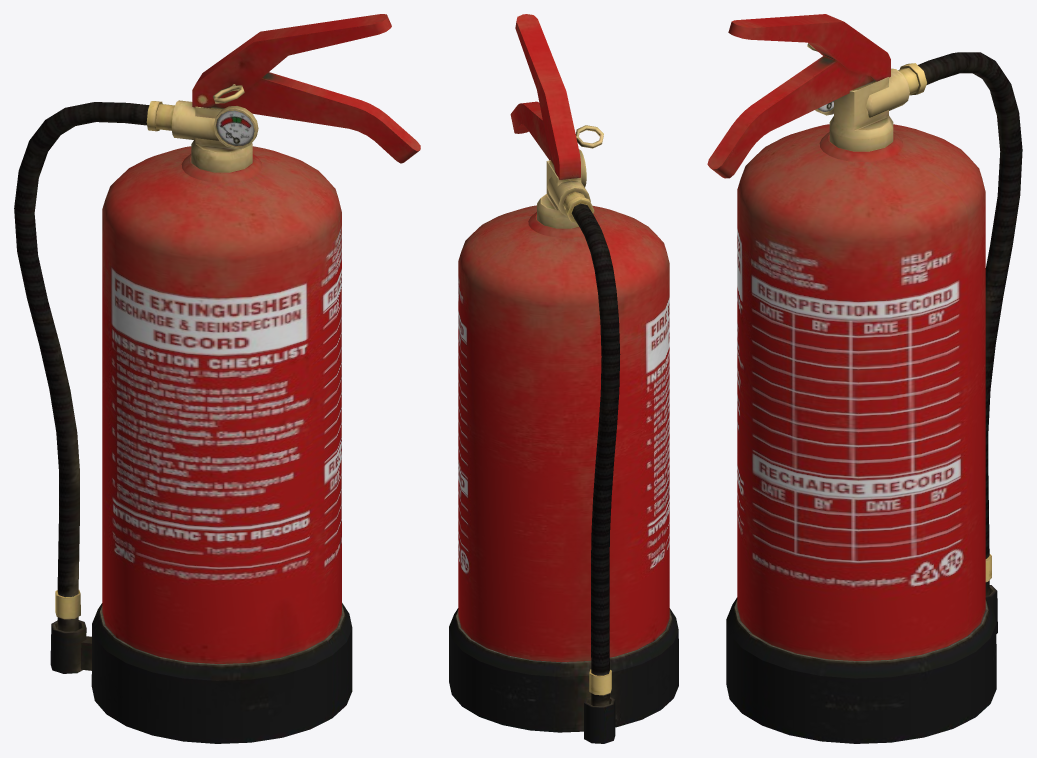
The model's file is Extintor.fbx.
3 views of the same model, side by side, from view 1: azimuth 30°, elevation 25°; view 2: azimuth 150°, elevation 25°; view 3: azimuth 270°, elevation 25° (orthographic). The views are drawn at different scales.
Visible parts, largest first — view 1: Extintor1.002; view 2: Extintor1.002; view 3: Extintor1.002.
Boxes of the visible parts, box(x1,y1,x2,y2) form: Extintor1.002: box(14, 14, 420, 743); Extintor1.002: box(449, 14, 678, 743); Extintor1.002: box(707, 14, 1022, 743).
Size of the model in its own units: 21.8 by 54.45 by 21.75.
1 material, 1 textured.
